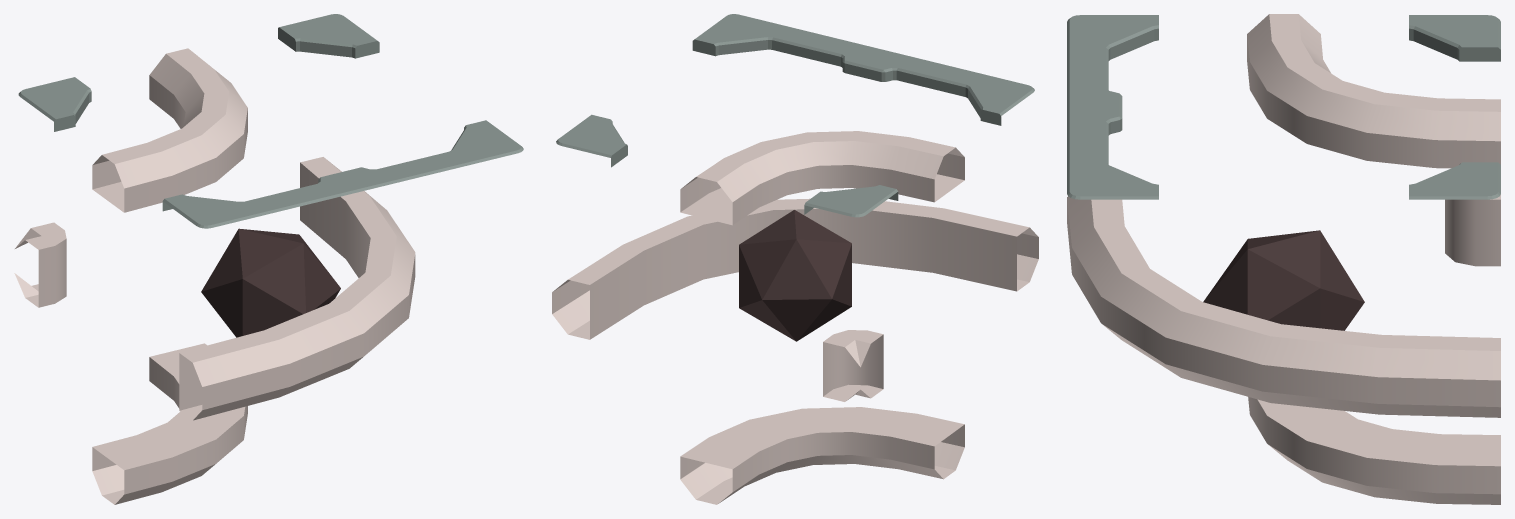
File: Env_SetP_SpaceStation_ReactorPipingFloorCorner_1x1.fbx
The picture shows the model from 3 angles, left to right: view 1: azimuth 30°, elevation 25°; view 2: azimuth 150°, elevation 25°; view 3: azimuth 270°, elevation 25°; orthographic projection. The views are drawn at different scales.
Visible parts, largest first — view 1: PipeCornerFloor; view 2: PipeCornerFloor; view 3: PipeCornerFloor.
Boxes of the visible parts, left/top/right/bottom form: PipeCornerFloor: left=14, top=14, right=523, bottom=504; PipeCornerFloor: left=552, top=14, right=1038, bottom=504; PipeCornerFloor: left=1067, top=14, right=1500, bottom=504.
Bounding box in the file's own units: 100 × 100 × 100.
